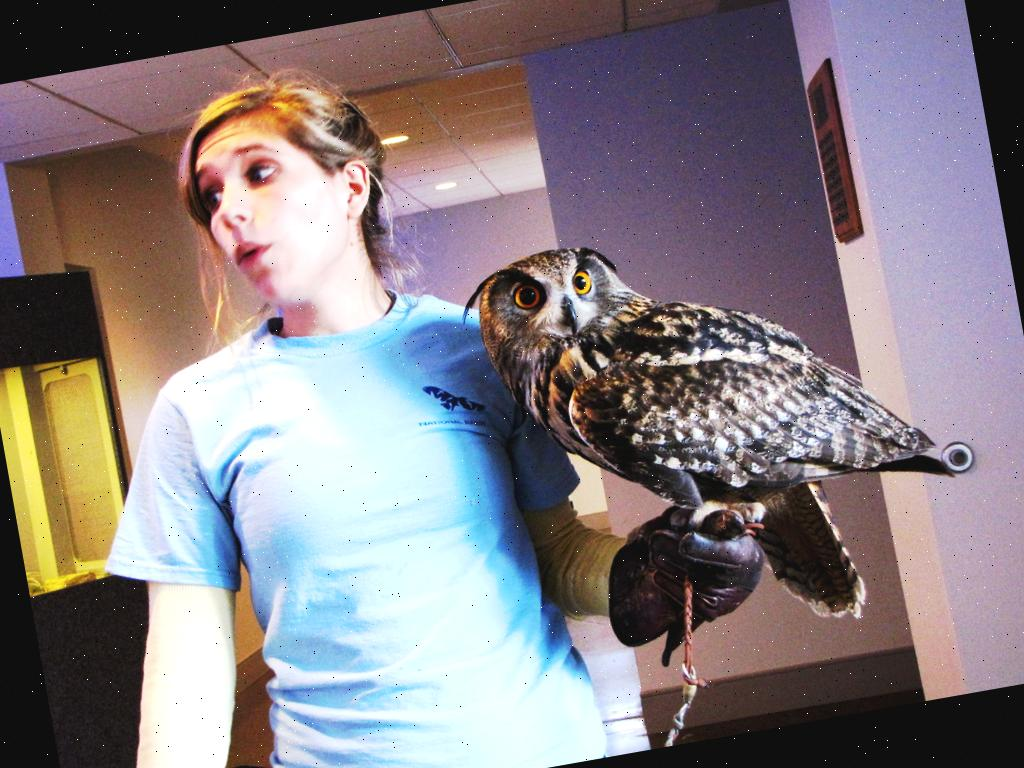Owl: (444, 187, 983, 678)
